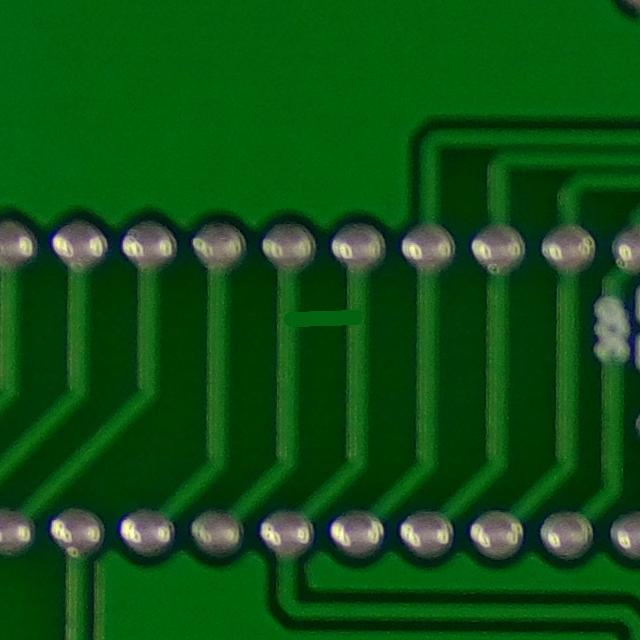short: (261, 277, 380, 364)
